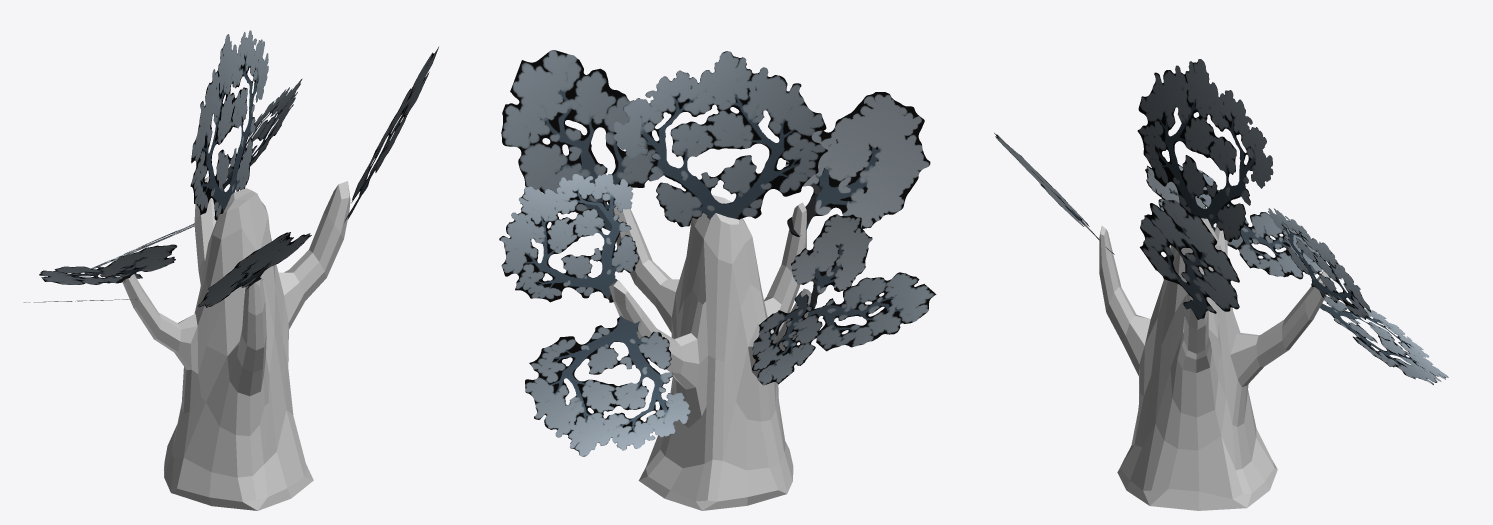
The model's file is vrodegotovoederevtse1.fbx.
The picture shows the model from 3 angles, left to right: view 1: azimuth 30°, elevation 25°; view 2: azimuth 150°, elevation 25°; view 3: azimuth 270°, elevation 25°; orthographic projection. The views are drawn at different scales.
Parts seen in each view (by area): view 1: дерево111, листва верхушка, plk3.001, plk1.002, plk2.001, plk3, plk1; view 2: дерево111, листва верхушка, plk1.002, plk2, plk2.001, plk3.001, plk1.001, plk3, plk1; view 3: дерево111, листва верхушка, plk1.002, plk2, plk2.001, plk1, plk3.001, plk3.
Part boxes in pixels (x1=…): дерево111: x1=119, y1=176, x2=350, y2=510; листва верхушка: x1=190, y1=30, x2=268, y2=220; plk3.001: x1=197, y1=232, x2=311, y2=307; plk1.002: x1=344, y1=47, x2=438, y2=222; plk2.001: x1=223, y1=78, x2=302, y2=189; plk3: x1=100, y1=244, x2=177, y2=283; plk1: x1=39, y1=266, x2=142, y2=284; дерево111: x1=609, y1=195, x2=811, y2=510; листва верхушка: x1=613, y1=51, x2=827, y2=226; plk1.002: x1=501, y1=50, x2=656, y2=231; plk2: x1=525, y1=316, x2=690, y2=456; plk2.001: x1=499, y1=174, x2=639, y2=302; plk3.001: x1=785, y1=92, x2=930, y2=236; plk1.001: x1=807, y1=272, x2=936, y2=351; plk3: x1=791, y1=214, x2=872, y2=309; plk1: x1=752, y1=291, x2=822, y2=385; дерево111: x1=1099, y1=218, x2=1330, y2=510; листва верхушка: x1=1137, y1=59, x2=1273, y2=242; plk1.002: x1=1140, y1=200, x2=1239, y2=319; plk2: x1=1319, y1=296, x2=1448, y2=384; plk2.001: x1=1268, y1=208, x2=1371, y2=319; plk1: x1=1237, y1=212, x2=1322, y2=279; plk3.001: x1=994, y1=133, x2=1114, y2=254; plk3: x1=1145, y1=165, x2=1215, y2=231.
Size of the model in its own units: 657 by 686 by 683.
